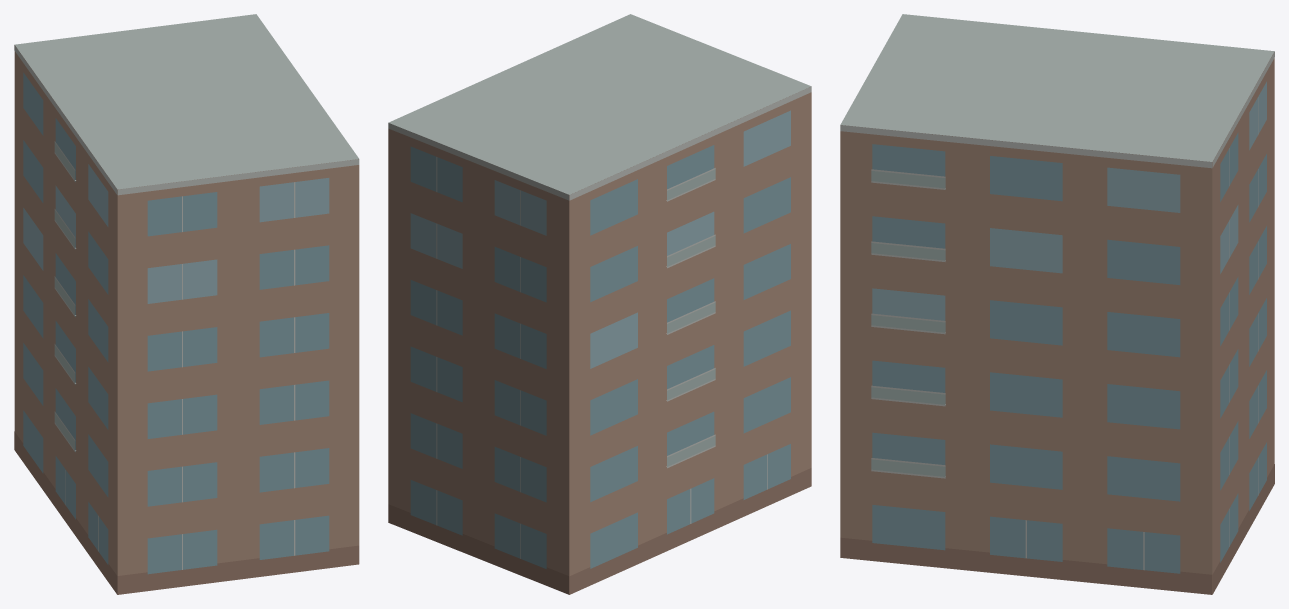
The model's file is survey-upis-32538492.glb.
3 renders of one model, left to right at view 1: azimuth 30°, elevation 25°; view 2: azimuth 150°, elevation 25°; view 3: azimuth 270°, elevation 25°, orthographic. The views are drawn at different scales.
Parts seen in each view (by area): view 1: survey-upis-32538492.tmp; view 2: survey-upis-32538492.tmp; view 3: survey-upis-32538492.tmp.
Part boxes in pixels (x1=…): survey-upis-32538492.tmp: x1=14, y1=14, x2=359, y2=594; survey-upis-32538492.tmp: x1=388, y1=14, x2=811, y2=594; survey-upis-32538492.tmp: x1=840, y1=14, x2=1274, y2=594.
Size of the model in its own units: 12.37 by 16.85 by 15.34.
